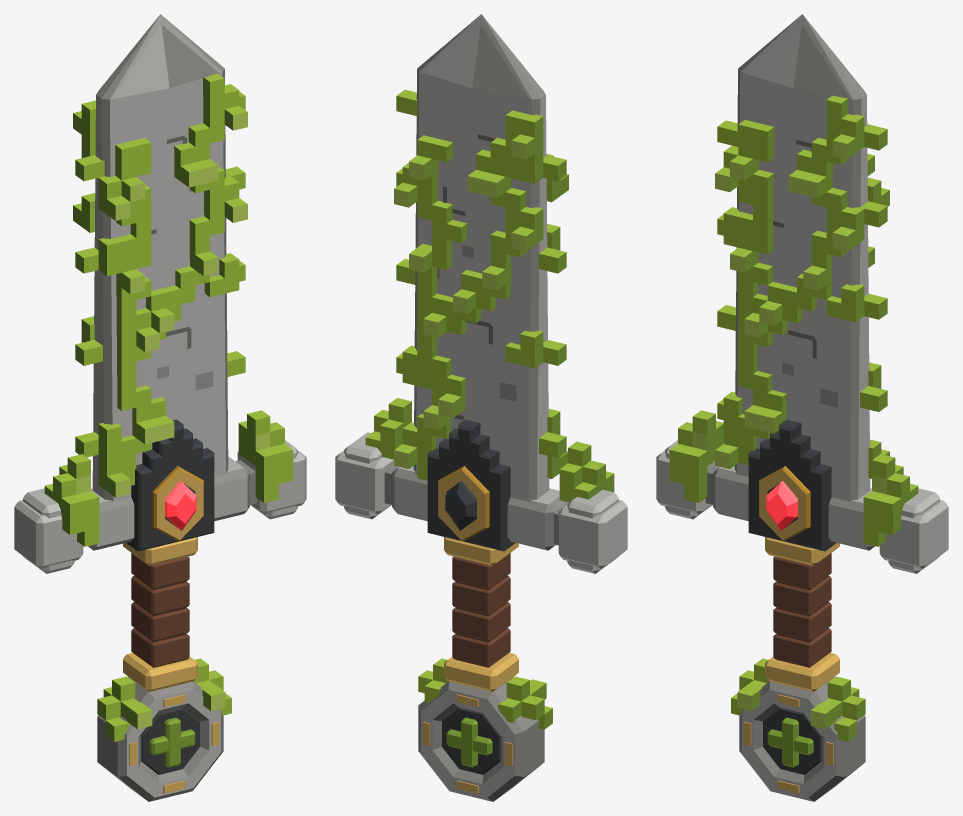
Rendered from MossstoneBlade.glb.
3 views of the same model, side by side, from view 1: azimuth 30°, elevation 25°; view 2: azimuth 150°, elevation 25°; view 3: azimuth 330°, elevation 25° (orthographic).
Parts seen in each view (by area): view 1: MossBright, BladeSlab, MossShade, PommelRing, HousingPlate, MossTopCubes, TipRidgeFront, GuardBar, GuardEndL, RimFront, CollarLower, Tip (+11 smaller); view 2: BladeSlab, MossBright, MossShade, PommelRing, HousingPlate, GuardBar, TipRidgeBack, GuardEndL, MossTopCubes, GuardEndR, RimBack, CollarLower (+12 smaller); view 3: BladeSlab, MossBright, MossShade, PommelRing, HousingPlate, MossTopCubes, TipRidgeFront, GuardBar, GuardEndR, RimFront, CollarLower, Tip (+11 smaller).
Boxes of the visible parts, x1=… form: MossBright: x1=45, y1=73, x2=293, y2=741; BladeSlab: x1=92, y1=69, x2=228, y2=501; MossShade: x1=44, y1=78, x2=263, y2=741; PommelRing: x1=97, y1=677, x2=223, y2=801; HousingPlate: x1=126, y1=419, x2=214, y2=551; MossTopCubes: x1=76, y1=112, x2=270, y2=728; TipRidgeFront: x1=113, y1=24, x2=218, y2=98; GuardBar: x1=88, y1=456, x2=249, y2=550; GuardEndL: x1=14, y1=500, x2=83, y2=568; RimFront: x1=152, y1=466, x2=203, y2=541; CollarLower: x1=123, y1=652, x2=197, y2=691; Tip: x1=96, y1=14, x2=224, y2=99; BladeSlab: x1=413, y1=69, x2=549, y2=501; MossBright: x1=365, y1=89, x2=613, y2=729; MossShade: x1=395, y1=116, x2=614, y2=728; PommelRing: x1=418, y1=677, x2=544, y2=801; HousingPlate: x1=427, y1=419, x2=515, y2=551; GuardBar: x1=392, y1=466, x2=568, y2=550; TipRidgeBack: x1=423, y1=24, x2=528, y2=98; GuardEndL: x1=558, y1=500, x2=627, y2=568; MossTopCubes: x1=394, y1=140, x2=526, y2=468; GuardEndR: x1=335, y1=450, x2=393, y2=514; RimBack: x1=438, y1=466, x2=489, y2=541; CollarLower: x1=444, y1=652, x2=518, y2=691; BladeSlab: x1=734, y1=69, x2=870, y2=501; MossBright: x1=669, y1=95, x2=917, y2=741; MossShade: x1=699, y1=99, x2=918, y2=741; PommelRing: x1=739, y1=677, x2=865, y2=801; HousingPlate: x1=748, y1=419, x2=836, y2=551; MossTopCubes: x1=692, y1=140, x2=886, y2=728; TipRidgeFront: x1=744, y1=24, x2=849, y2=98; GuardBar: x1=713, y1=466, x2=874, y2=550; GuardEndR: x1=879, y1=500, x2=948, y2=568; RimFront: x1=759, y1=466, x2=810, y2=541; CollarLower: x1=765, y1=652, x2=839, y2=691; Tip: x1=738, y1=14, x2=866, y2=99.
Bounding box in the file's own units: 0.46 × 1.26 × 0.146.
